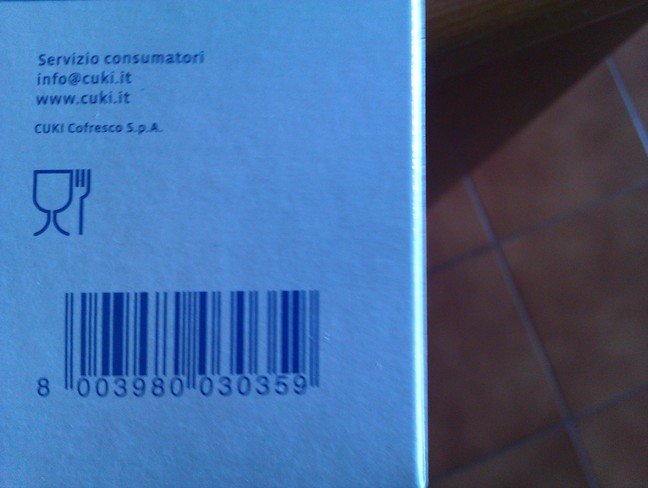detection: (35, 282, 329, 410)
